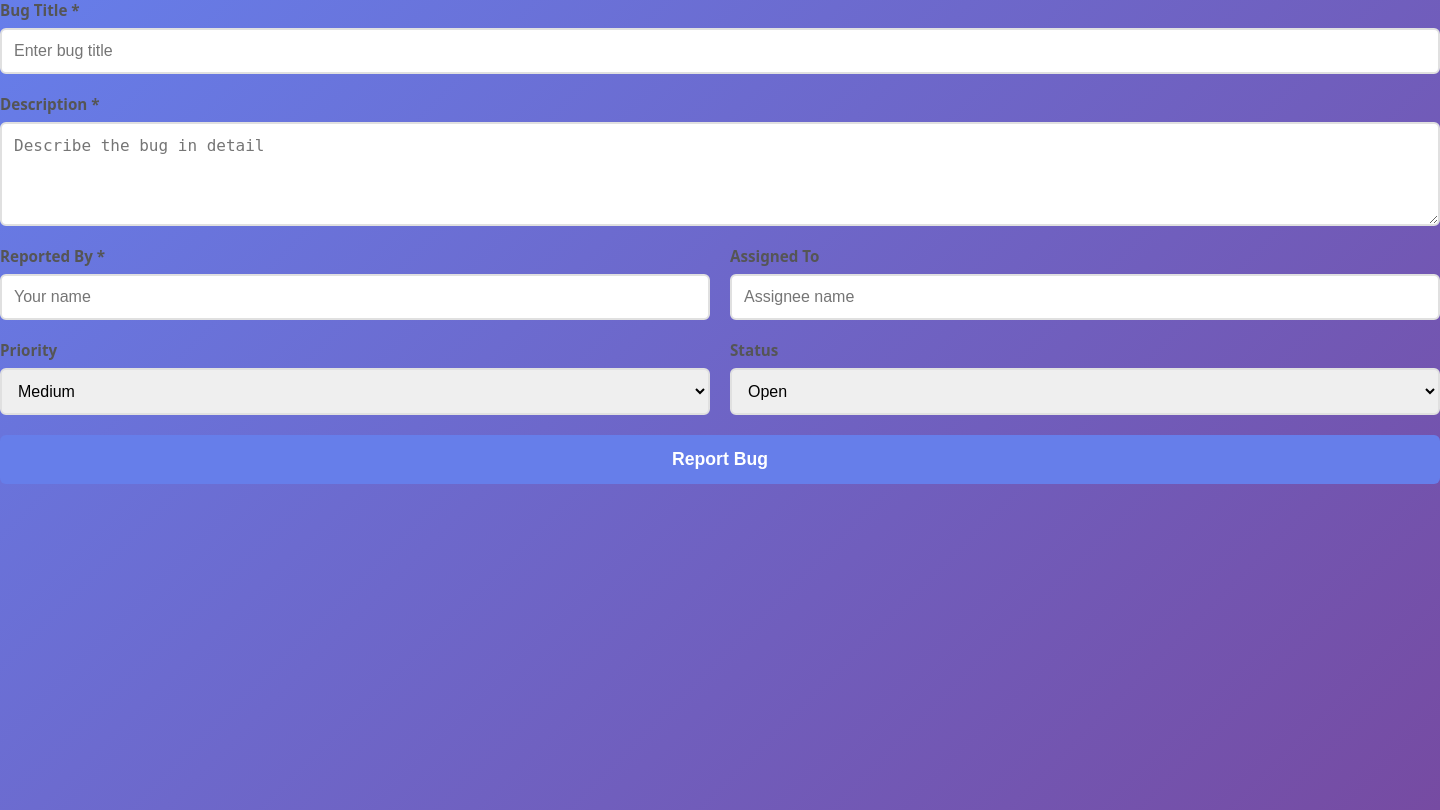
BugForm Component › shows validation error for short title
Type "ab" into the field labelled "Bug Title *". click: (720, 51)
box: x1=0 y1=28 x2=1439 y2=74
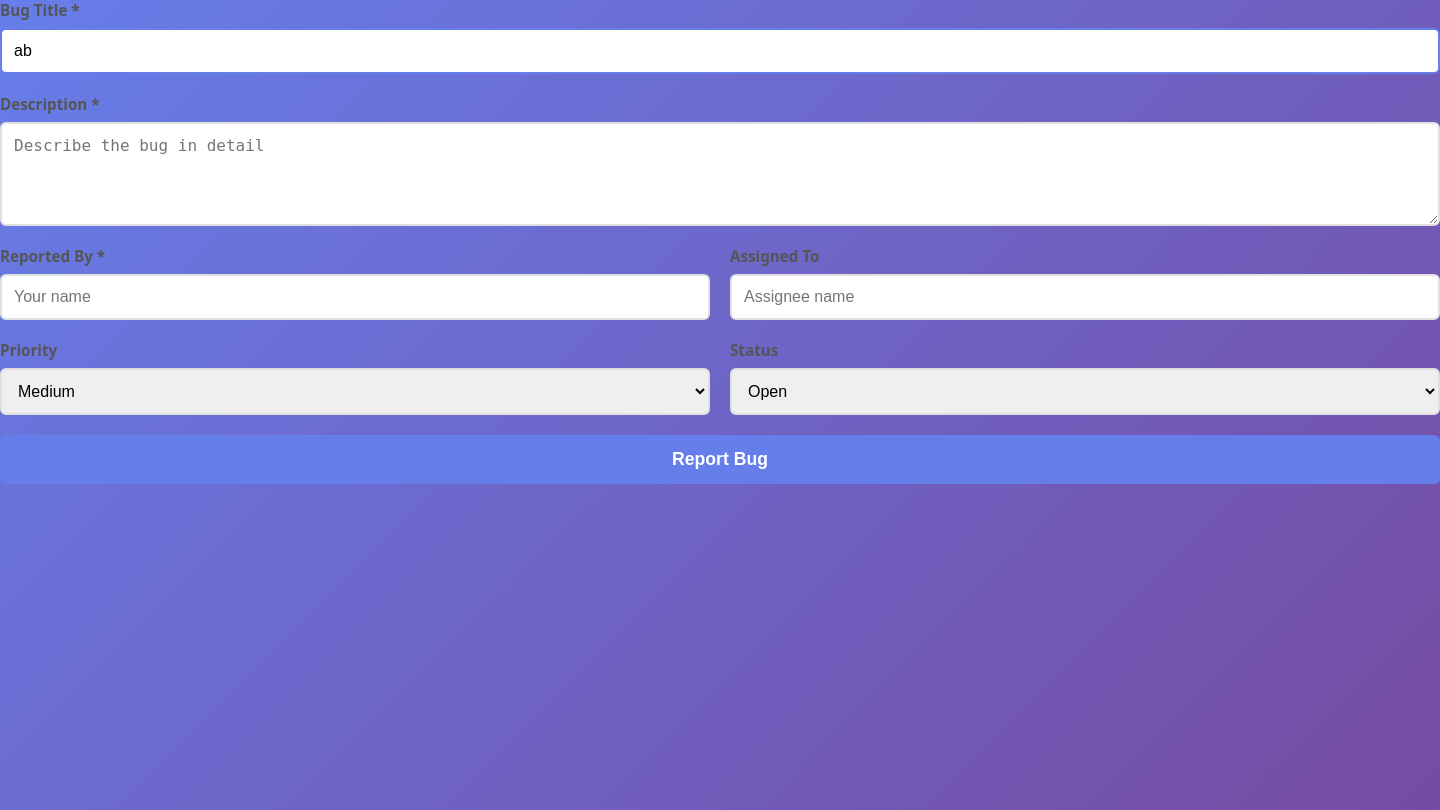
Click the button "Report Bug". click: (720, 460)
box: x1=0 y1=435 x2=1439 y2=484
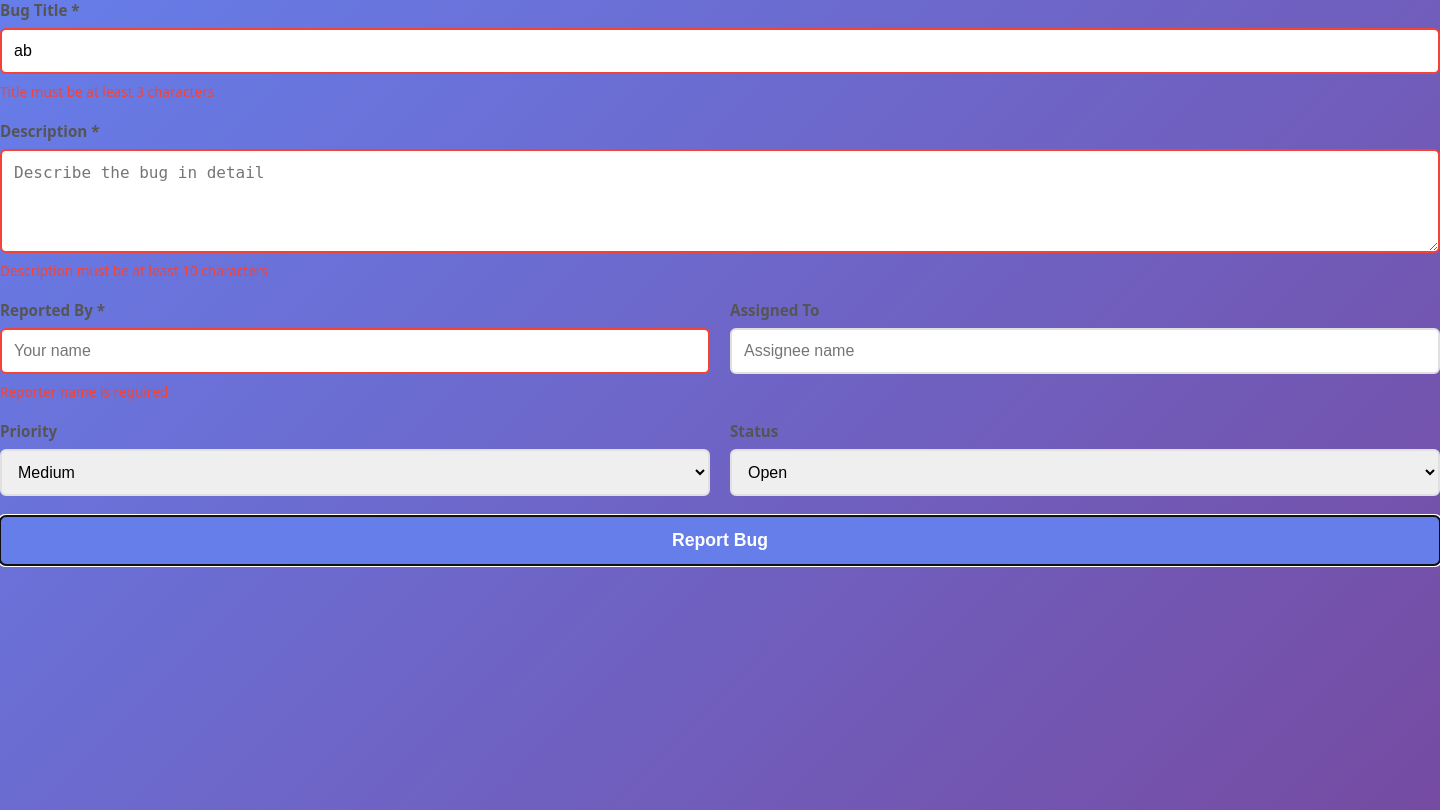
Now the text "Title must be at least 3 characters" is shown, box x1=0 y1=82 x2=214 y2=101
